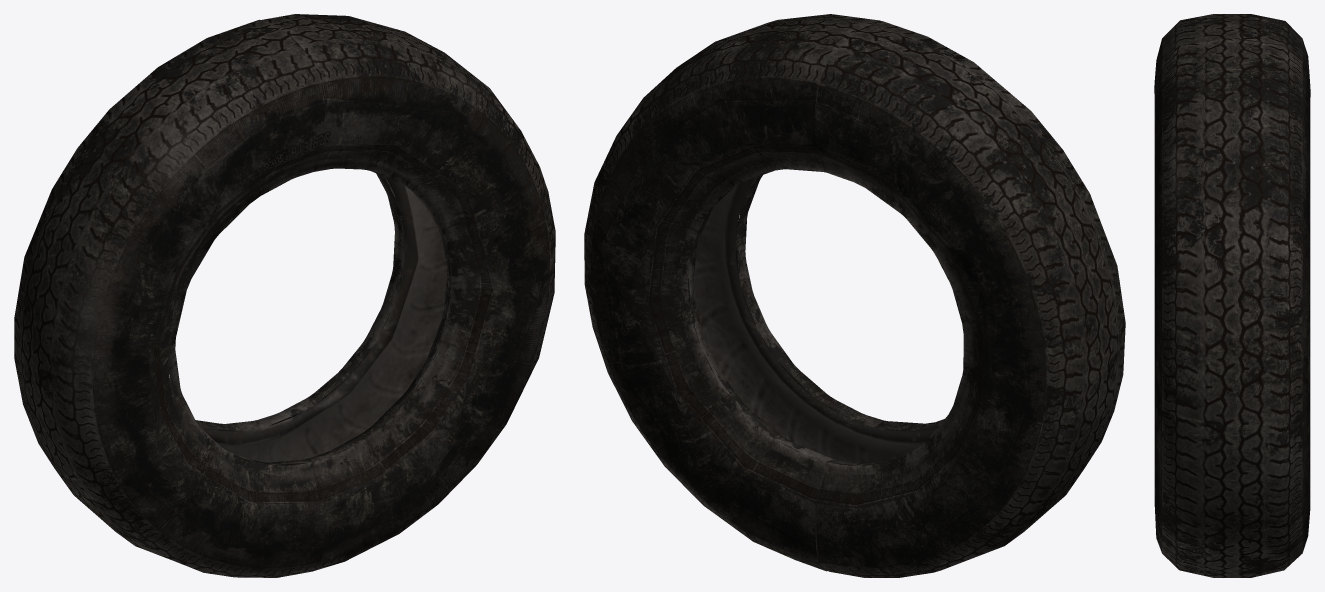
File: old_tyre.glb
3 views of the same model, side by side, from view 1: azimuth 30°, elevation 25°; view 2: azimuth 150°, elevation 25°; view 3: azimuth 270°, elevation 25° (orthographic). The views are drawn at different scales.
Visible parts, largest first — view 1: old_tyre; view 2: old_tyre; view 3: old_tyre.
Part boxes in pixels (x1,y1,x2,y2): old_tyre: (14,14,555,577); old_tyre: (584,14,1125,577); old_tyre: (1154,14,1310,577).
Bounding box in the file's own units: 0.6002 × 0.6035 × 0.1661.
1 material, 1 textured.
